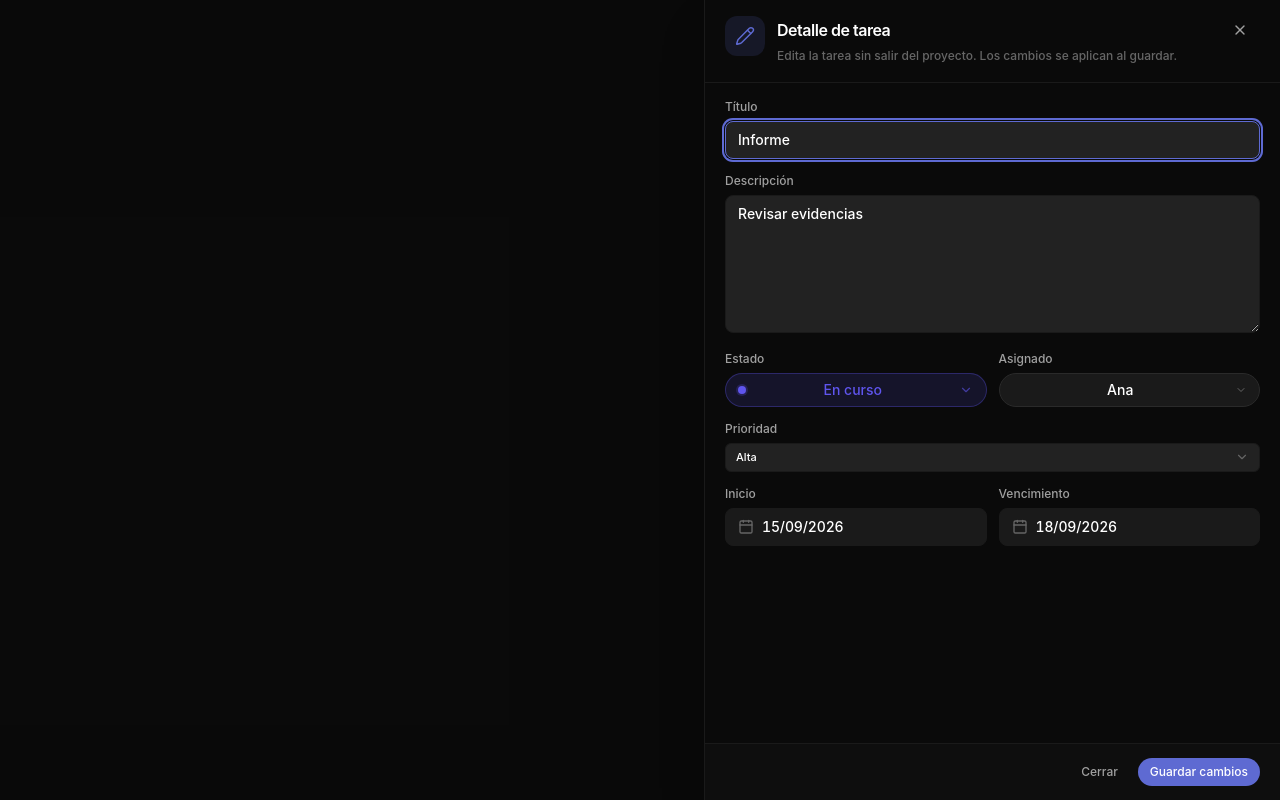
it: task detail panel › preserves the conflicting draft if loading the current version fails
The width and height of the screenshot is (1280, 800).
Replace the text in the field labelled "Título" with "Mi borrador" at (992, 140), box 725,120 -> 1260,158
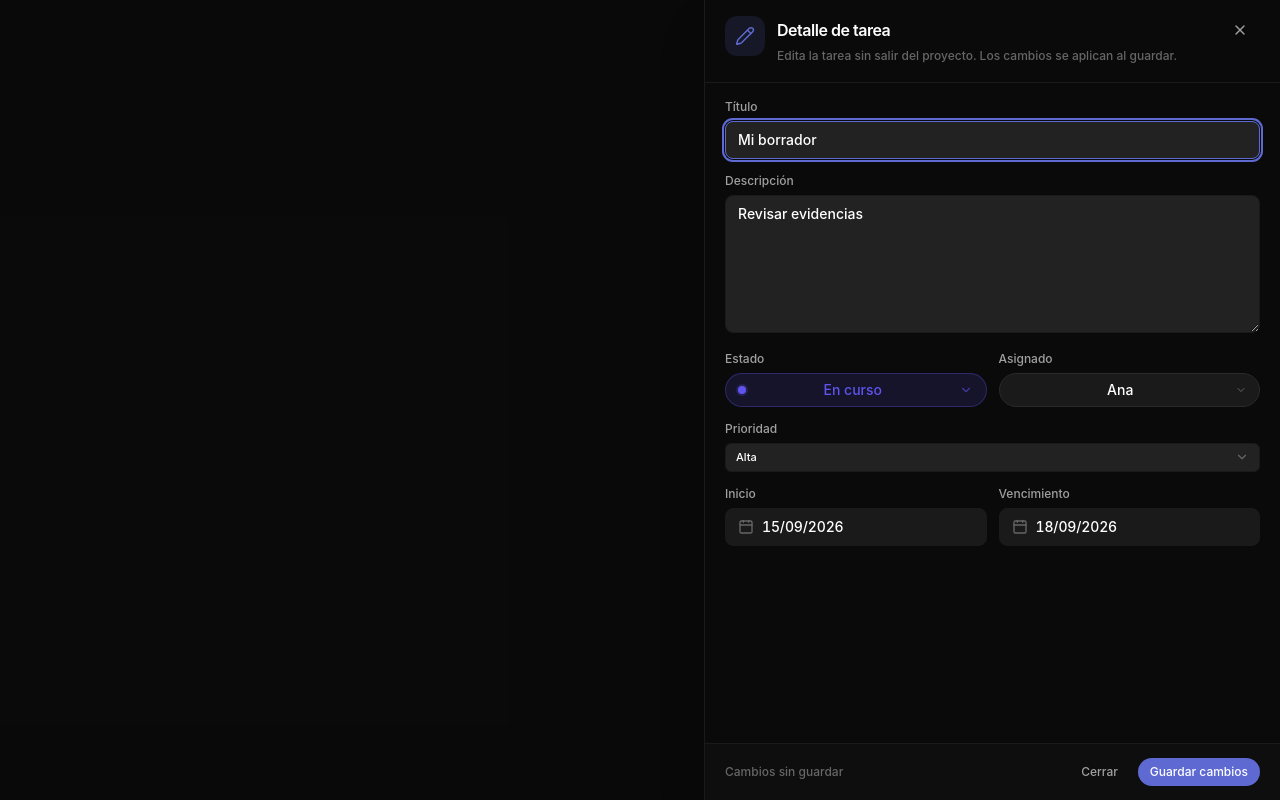
Click the button "Guardar cambios" at (1199, 772), box 1138,758 -> 1260,786
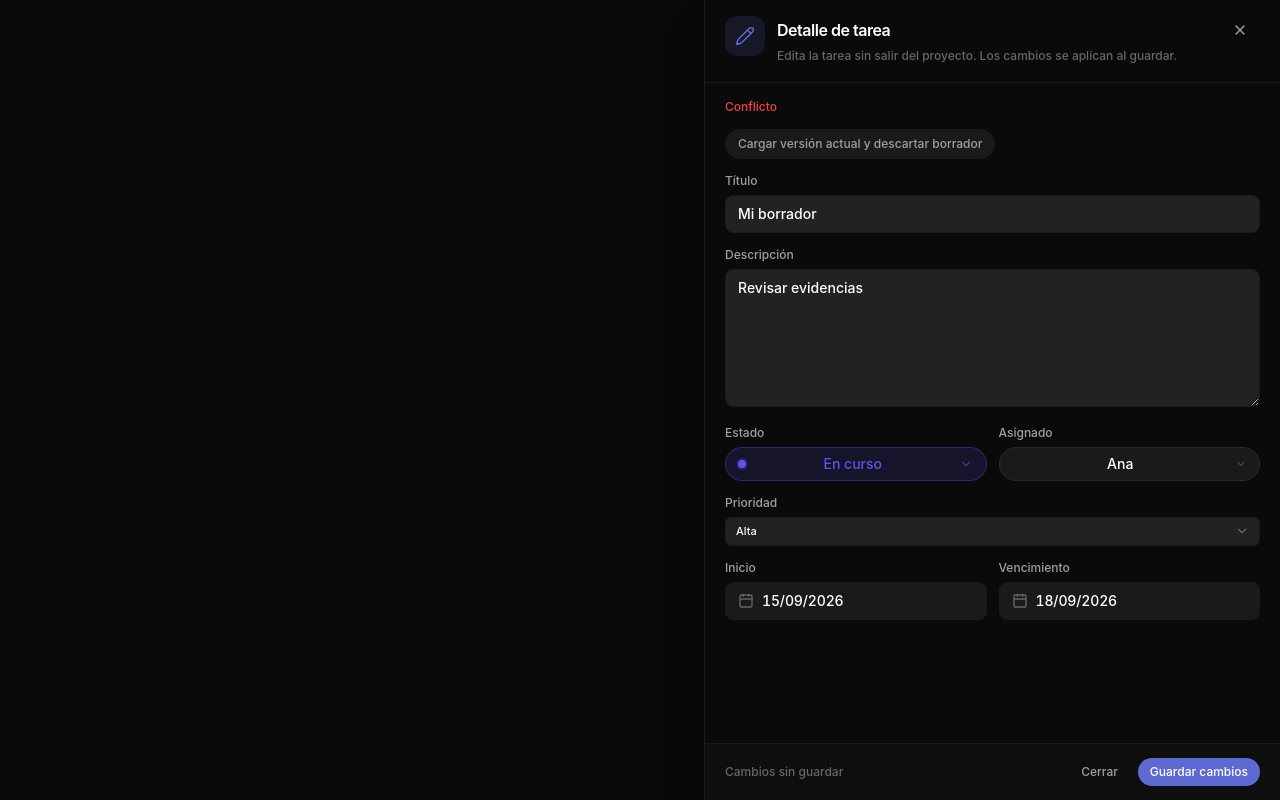
Click the button "Cargar versión actual y descartar borrador" at (860, 144), box 725,128 -> 995,158
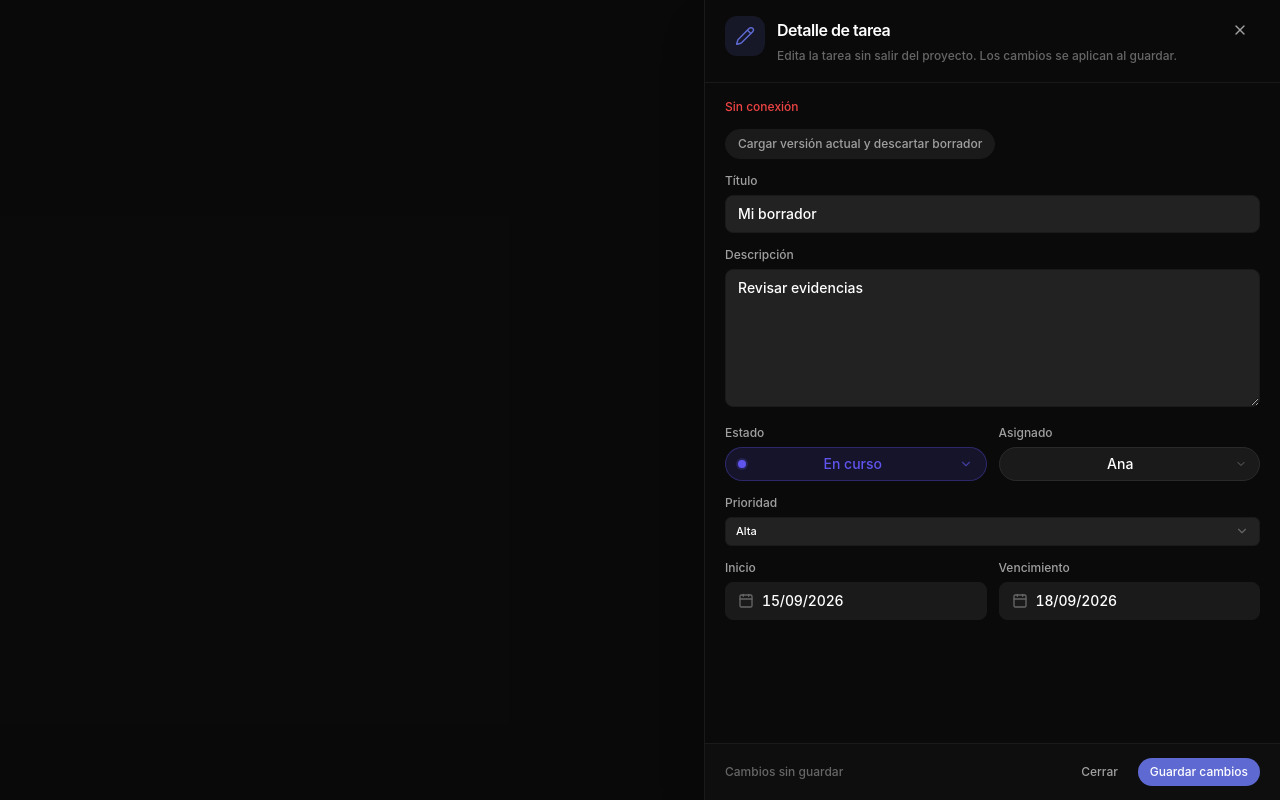
Expected: the message reads "Sin conexión", 725,98 -> 799,114
